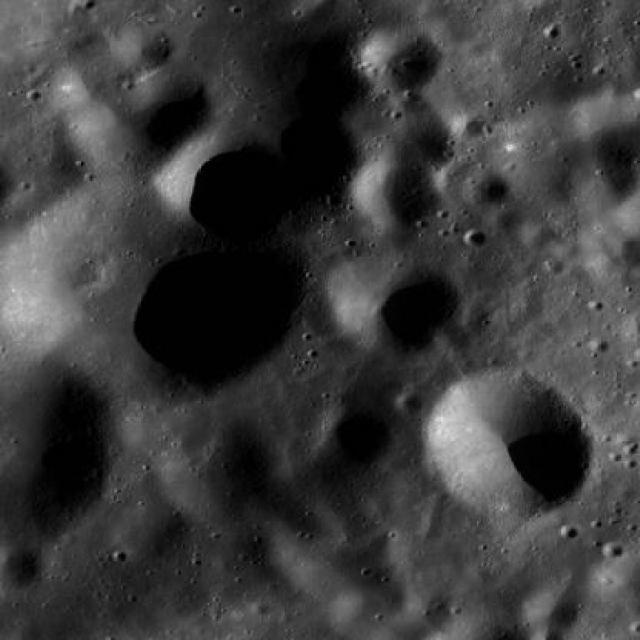crater: (0, 0, 411, 294), (0, 172, 300, 411), (422, 373, 596, 512), (56, 48, 212, 170), (156, 127, 296, 238), (464, 0, 606, 105), (322, 250, 456, 356), (156, 421, 282, 521), (492, 106, 614, 202), (345, 88, 453, 172), (351, 158, 440, 228), (354, 25, 440, 93), (121, 391, 207, 458), (282, 531, 364, 597), (318, 403, 394, 463), (570, 157, 639, 211), (117, 502, 183, 556), (328, 584, 390, 634), (111, 17, 174, 66), (266, 503, 328, 552), (310, 438, 367, 484), (526, 588, 582, 634), (431, 156, 484, 198), (0, 540, 40, 592), (403, 586, 454, 626), (462, 170, 508, 207), (373, 216, 418, 250), (434, 14, 472, 44), (520, 220, 556, 248), (556, 566, 590, 592), (437, 326, 471, 352), (486, 206, 520, 232), (508, 292, 541, 318), (452, 112, 485, 137), (524, 0, 564, 18), (606, 232, 634, 254), (468, 561, 494, 581), (462, 302, 488, 322), (420, 0, 448, 18), (416, 519, 441, 539), (366, 528, 391, 548), (398, 389, 422, 409), (462, 38, 487, 56), (602, 540, 626, 558), (554, 240, 578, 258), (422, 507, 444, 525), (621, 311, 640, 331), (464, 229, 486, 246), (1, 0, 2, 1)
